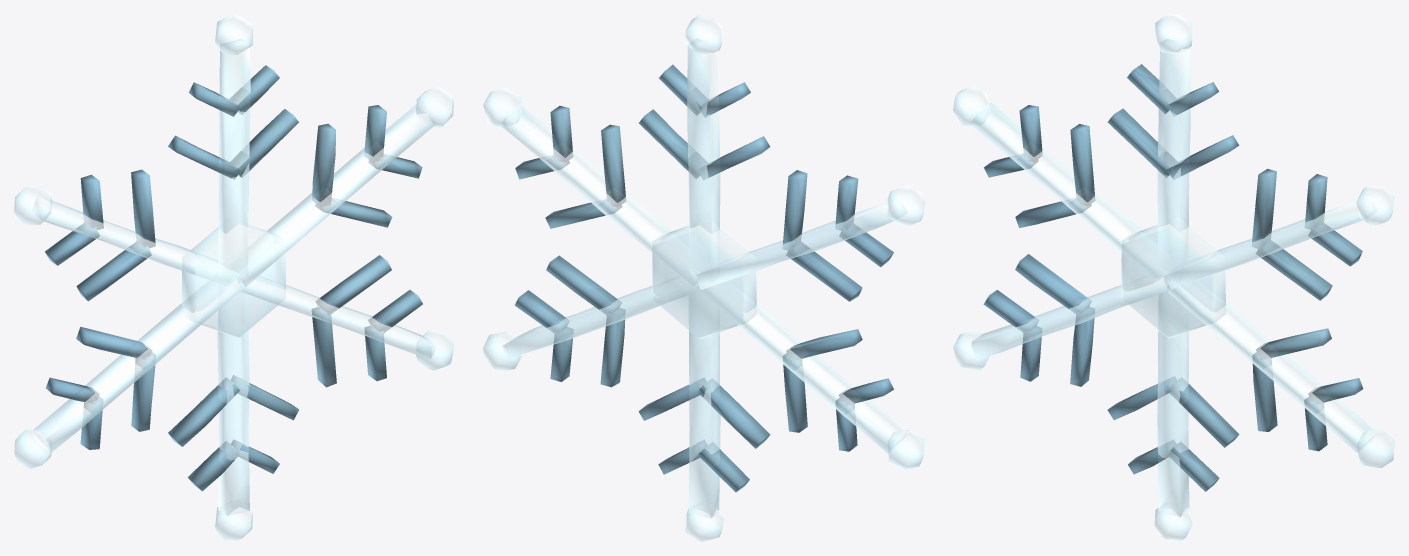
Rendered from frost_snowflake_lod2.glb.
3 views of the same model, side by side, from view 1: azimuth 30°, elevation 25°; view 2: azimuth 150°, elevation 25°; view 3: azimuth 330°, elevation 25° (orthographic).
Parts seen in each view (by area): view 1: frost_snowflake.001; view 2: frost_snowflake.001; view 3: frost_snowflake.001.
Part boxes in pixels (x1,y1,x2,y2): frost_snowflake.001: (14, 14, 454, 541); frost_snowflake.001: (483, 14, 924, 541); frost_snowflake.001: (953, 14, 1394, 541).
Bounding box in the file's own units: 10.55 × 12 × 0.8578.
